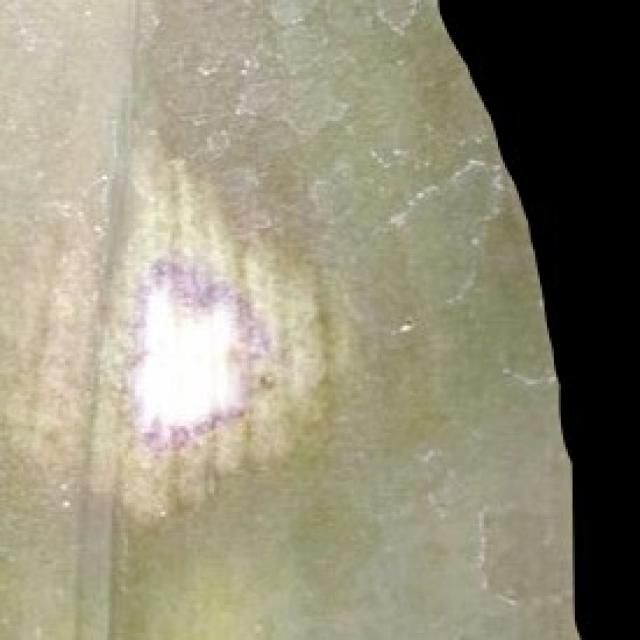mite: (433, 0, 638, 638), (249, 363, 282, 396), (256, 370, 277, 391)
sunburn: (119, 251, 277, 454)
